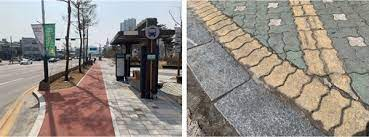guide_blocks: (293, 1, 350, 90)
